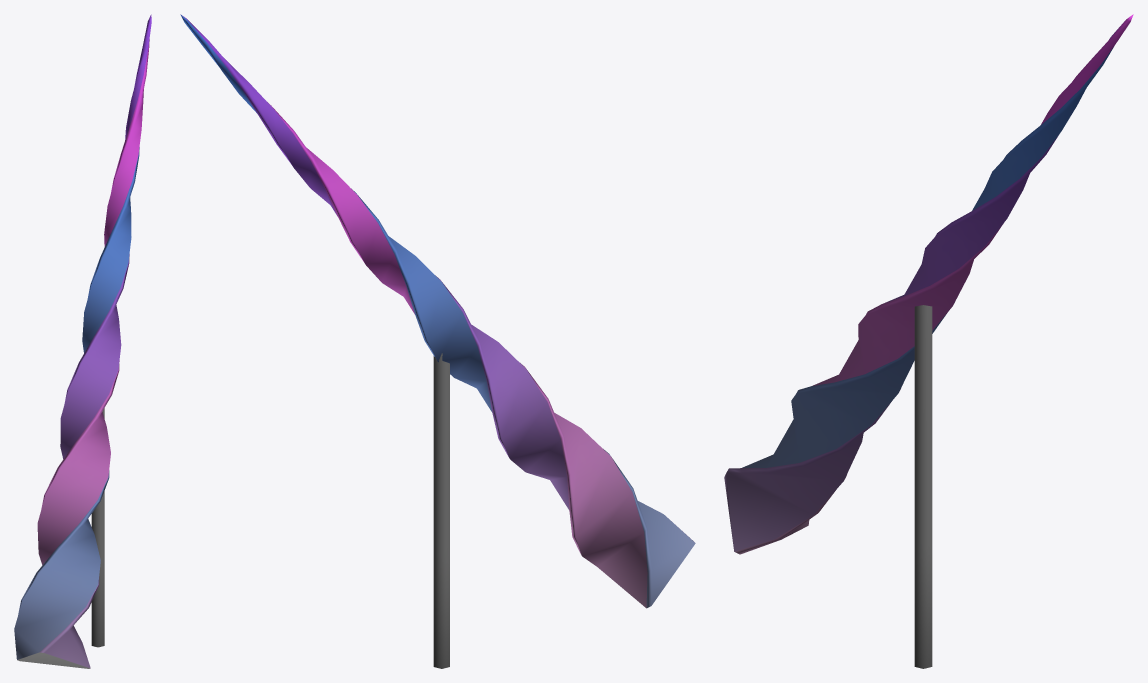
The model's file is OBJ_UnicornHorn.fbx.
The picture shows the model from 3 angles, left to right: view 1: azimuth 30°, elevation 25°; view 2: azimuth 150°, elevation 25°; view 3: azimuth 270°, elevation 25°; orthographic projection. The views are drawn at different scales.
Parts seen in each view (by area): view 1: OBJ_UnicornHorn; view 2: OBJ_UnicornHorn; view 3: OBJ_UnicornHorn.
Boxes of the visible parts, x1,y1,x2,y2 form: OBJ_UnicornHorn: (14,14,151,668); OBJ_UnicornHorn: (180,14,695,668); OBJ_UnicornHorn: (724,14,1133,668).
Bounding box in the file's own units: 49.59 × 98.49 × 49.58.
